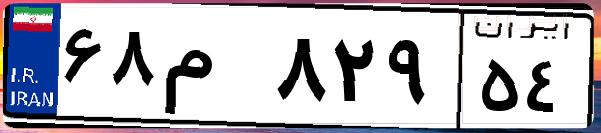2: (330, 28, 385, 110)
4: (525, 38, 570, 115)
5: (475, 38, 525, 113)
6: (57, 26, 110, 100)
8: (270, 28, 330, 110), (110, 28, 158, 98)
9: (385, 28, 445, 110)
م: (158, 20, 270, 120)
